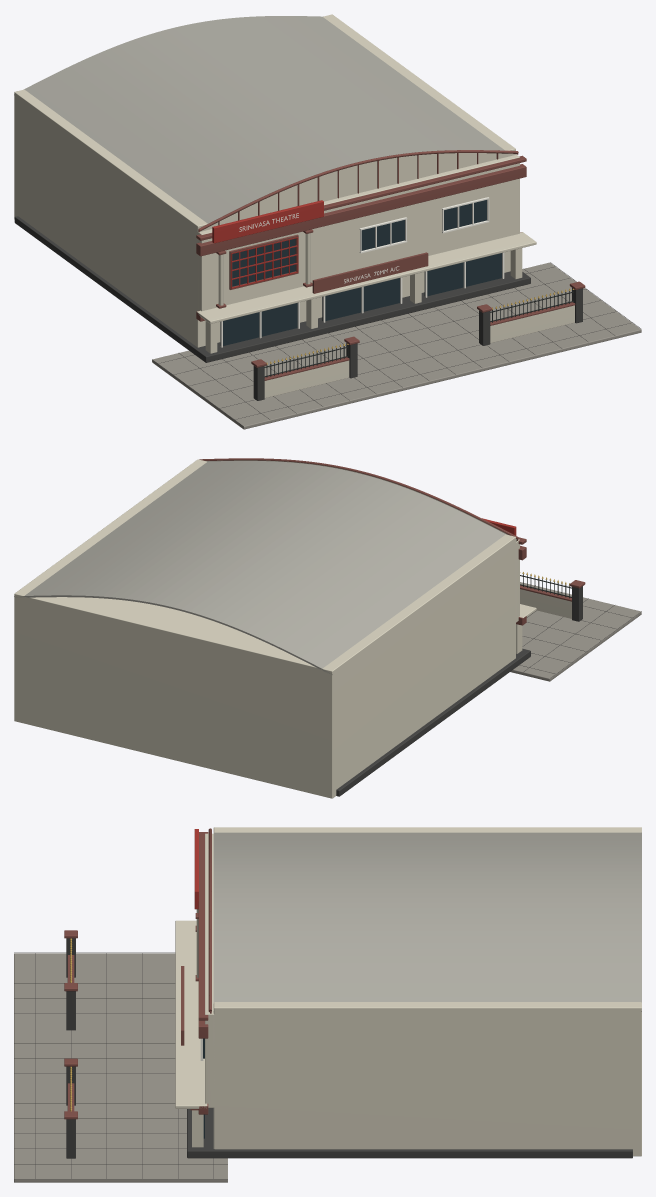
The model's file is srinivasa_theatre.glb.
3 views of the same model, one above another, from view 1: azimuth 30°, elevation 25°; view 2: azimuth 150°, elevation 25°; view 3: azimuth 270°, elevation 25° (orthographic). The views are drawn at different scales.
Parts seen in each view (by area): view 1: Curved metal auditorium roof, Auditorium mass — estimated depth, Courtyard, Front upper facade, Raised plinth, Cream curved roof front, Continuous maroon cornice.001, Entrance canopy, Srinivasa red rooftop sign, Ground opening, Ground opening.001, Ground opening.002 (+7 smaller); view 2: Auditorium mass — estimated depth, Curved metal auditorium roof, Courtyard, Raised plinth, Boundary wall; view 3: Curved metal auditorium roof, Auditorium mass — estimated depth, Courtyard, Raised plinth, Entrance canopy, Front upper facade, Continuous maroon cornice.002.
Part boxes in pixels (x1,y1,x2,y2): Curved metal auditorium roof: [14, 16, 504, 229]; Auditorium mass — estimated depth: [14, 14, 515, 347]; Courtyard: [152, 262, 641, 429]; Front upper facade: [197, 154, 519, 311]; Raised plinth: [14, 216, 530, 362]; Cream curved roof front: [200, 153, 516, 231]; Continuous maroon cornice.001: [196, 164, 526, 256]; Entrance canopy: [197, 232, 536, 323]; Srinivasa red rooftop sign: [212, 200, 323, 243]; Ground opening: [220, 303, 297, 345]; Ground opening.001: [322, 278, 399, 320]; Ground opening.002: [424, 253, 501, 296]; Auditorium mass — estimated depth: [14, 459, 515, 798]; Curved metal auditorium roof: [14, 461, 516, 674]; Courtyard: [510, 582, 641, 681]; Raised plinth: [336, 648, 530, 796]; Boundary wall: [520, 589, 571, 618]; Curved metal auditorium roof: [213, 832, 641, 1012]; Auditorium mass — estimated depth: [213, 827, 641, 1156]; Courtyard: [14, 953, 227, 1182]; Raised plinth: [187, 1108, 632, 1158]; Entrance canopy: [175, 920, 207, 1108]; Front upper facade: [205, 833, 214, 1107]; Continuous maroon cornice.002: [198, 832, 208, 1020].
Size of the model in its own units: 30.02 by 11.34 by 35.2.
